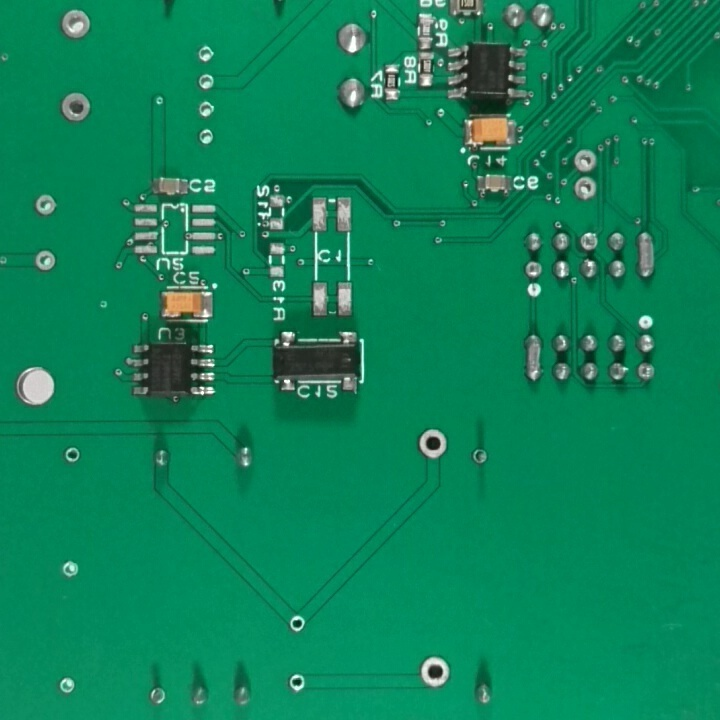F: (418, 655, 454, 695), (417, 421, 452, 460), (56, 91, 96, 125), (59, 7, 93, 46), (30, 192, 59, 222), (570, 146, 601, 172), (573, 175, 600, 203), (33, 249, 58, 274), (144, 685, 170, 709), (193, 96, 216, 122), (61, 445, 84, 470), (524, 259, 547, 282), (196, 71, 217, 95), (580, 232, 601, 255), (470, 448, 493, 469), (285, 672, 308, 693), (57, 675, 78, 698), (638, 361, 656, 386), (288, 612, 307, 635), (61, 560, 82, 580), (196, 126, 216, 147), (197, 45, 216, 63)
P: (633, 229, 659, 282), (522, 330, 544, 388)
